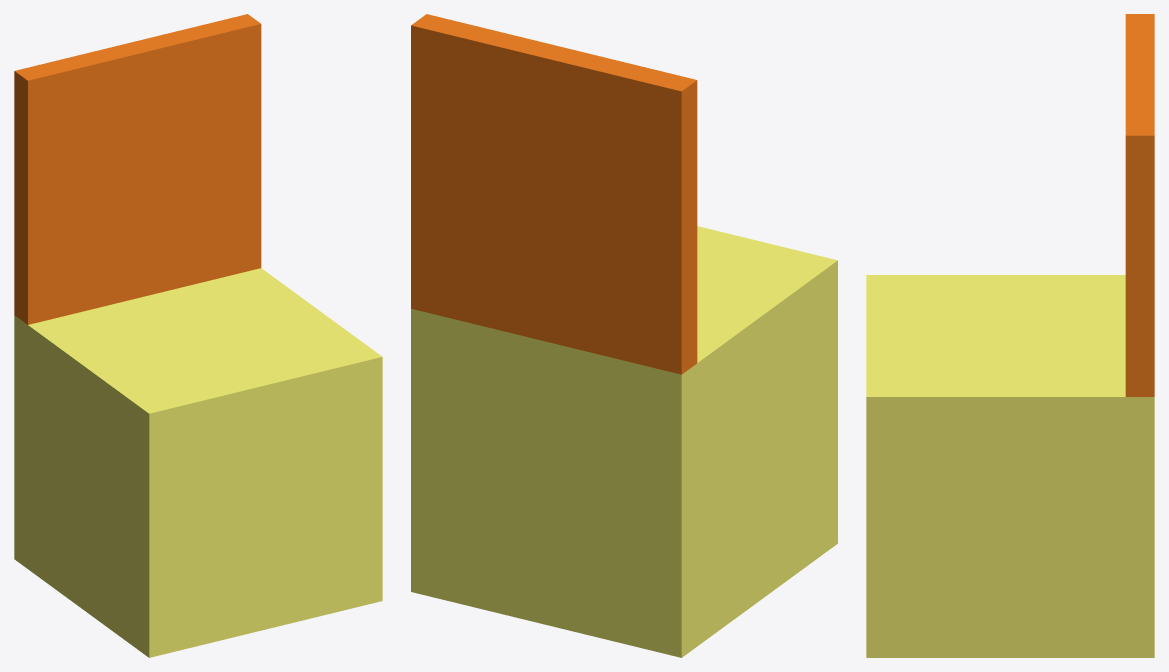
File: demo.dae
3 renders of one model, left to right at view 1: azimuth 30°, elevation 25°; view 2: azimuth 150°, elevation 25°; view 3: azimuth 270°, elevation 25°, orthographic. The views are drawn at different scales.
Visible parts, largest first — view 1: group_0, group_1; view 2: group_0, group_1; view 3: group_0, group_1.
Part boxes in pixels (x1,y1,x2,y2): group_0: (14,268,382,657); group_1: (14,14,261,324); group_0: (411,226,837,657); group_1: (411,14,697,374); group_0: (866,275,1154,657); group_1: (1125,14,1154,396).
Bounding box in the file's own units: 10 × 10 × 20.
